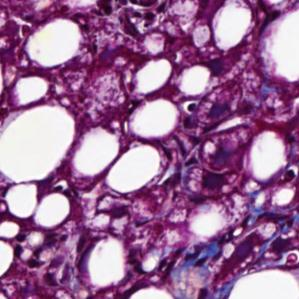inflammation: (95, 0, 170, 43), (214, 212, 292, 252), (14, 228, 58, 273)
